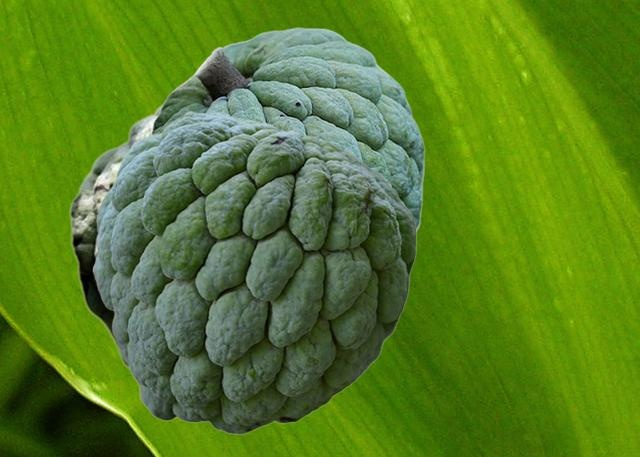atis: (93, 111, 416, 433), (148, 27, 424, 234), (68, 103, 161, 372)
